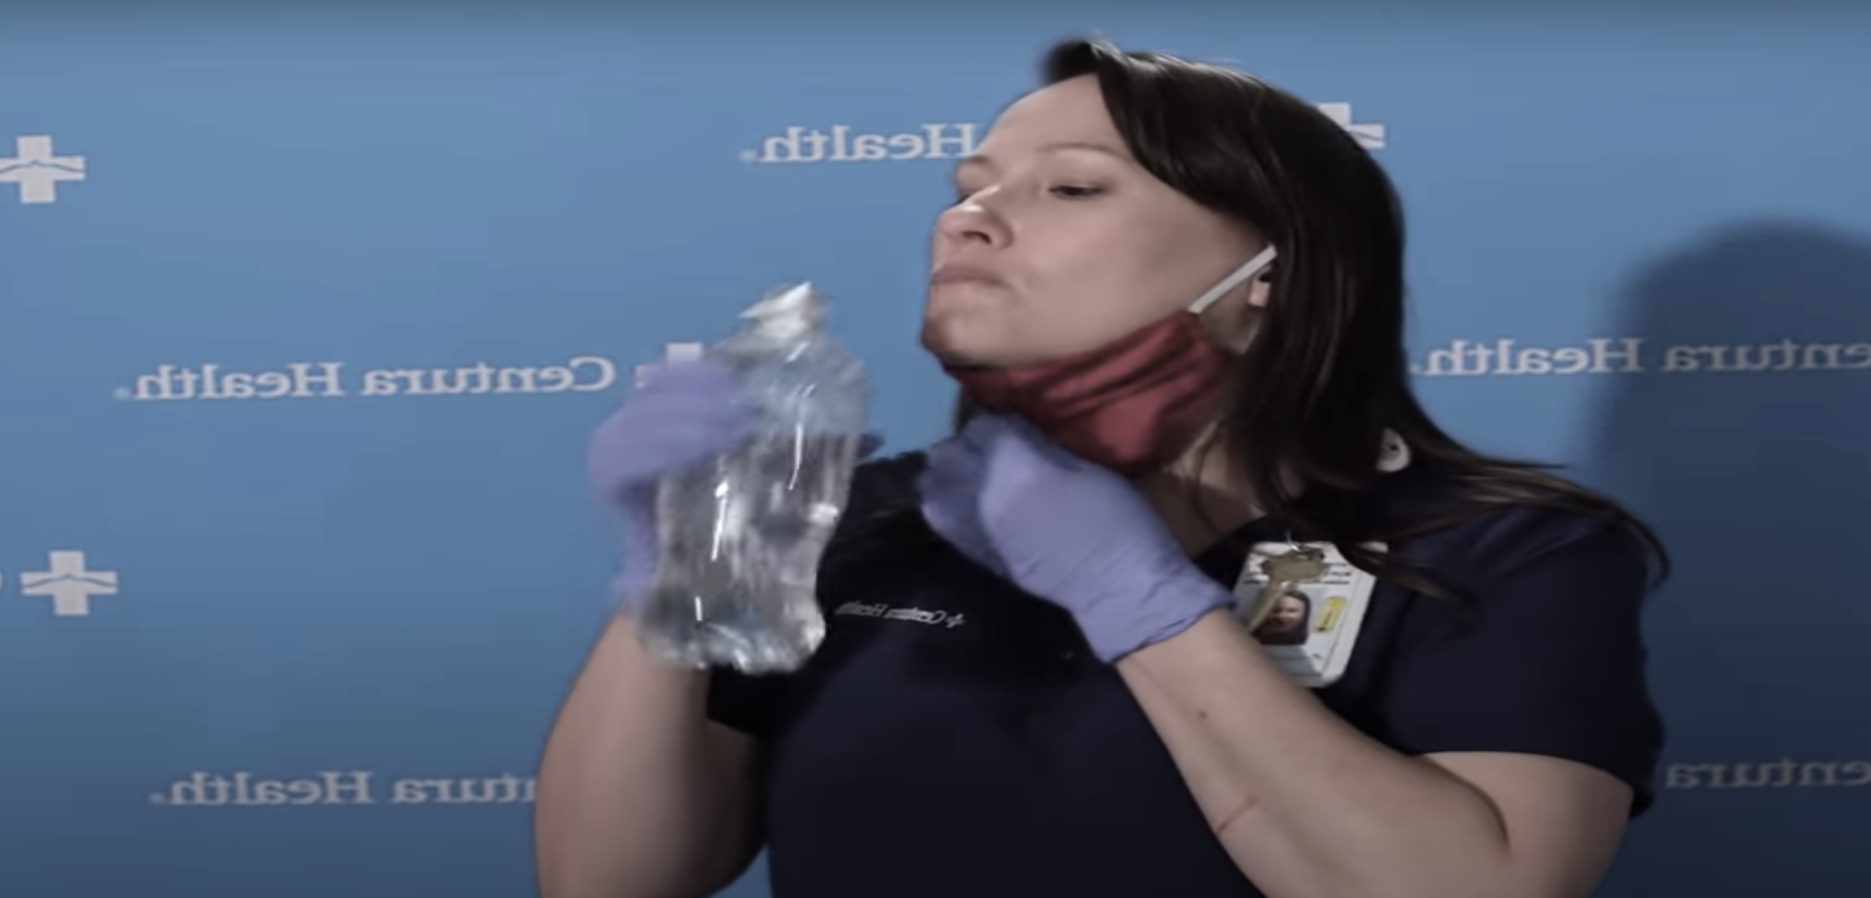mask_weared_incorrect: (918, 40, 1399, 477)
